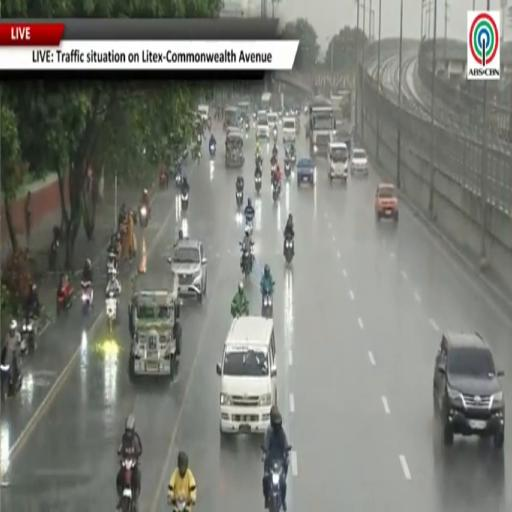bus: (307, 98, 335, 155), (261, 92, 272, 111)
car: (433, 332, 504, 449), (217, 316, 277, 436), (129, 275, 181, 378), (168, 239, 207, 302), (374, 182, 398, 222), (328, 142, 348, 183), (350, 147, 369, 176), (296, 158, 315, 186), (282, 116, 296, 144), (256, 111, 269, 139), (267, 112, 278, 130), (198, 105, 209, 122)
jeepney: (129, 279, 181, 377), (225, 131, 244, 168), (224, 107, 240, 130), (238, 102, 250, 131)
motorcycle: (0, 349, 22, 401), (120, 459, 136, 511), (268, 460, 284, 511), (20, 315, 36, 356), (57, 283, 73, 314), (106, 292, 117, 332), (241, 244, 253, 277), (240, 248, 252, 278), (81, 282, 92, 314), (49, 239, 59, 271), (284, 236, 294, 264), (262, 291, 272, 317), (107, 253, 117, 277), (174, 498, 191, 511), (140, 205, 149, 228), (181, 192, 188, 212), (255, 174, 262, 194), (245, 218, 253, 235), (159, 172, 167, 189), (272, 183, 279, 202), (236, 190, 243, 207), (285, 160, 291, 179), (175, 172, 182, 187), (210, 143, 215, 157), (271, 163, 276, 177), (291, 151, 296, 164), (197, 135, 202, 147), (273, 126, 277, 141), (207, 118, 211, 132)
